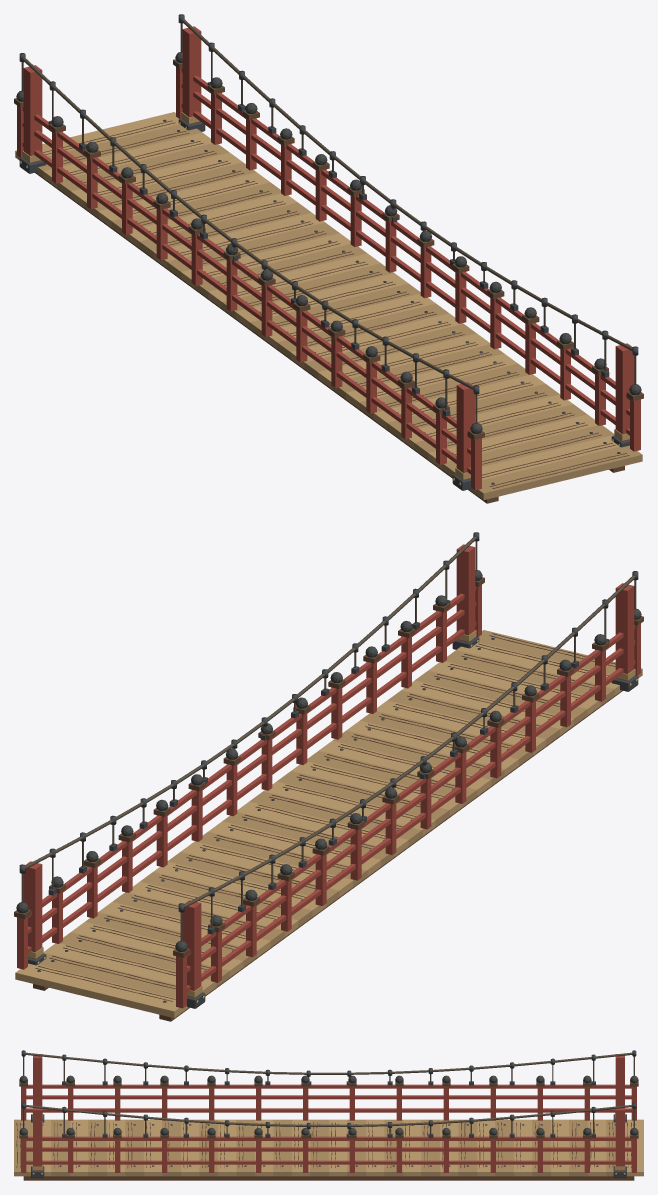
The model's file is feihua_bridge-refined-v1.glb.
3 renders of one model, top to bottom at view 1: azimuth 30°, elevation 25°; view 2: azimuth 150°, elevation 25°; view 3: azimuth 270°, elevation 25°, orthographic. The views are drawn at different scales.
Visible parts, largest first — view 1: feihua_bridge_FH_aa5145_surface, feihua_bridge_FH_b49368_surface, feihua_bridge_FH_c5a373_surface, feihua_bridge_FH_70513b_surface, feihua_bridge_FH_5f5547_surface, feihua_bridge_FH_494e51_metal, feihua_bridge_FH_474a49_surface; view 2: feihua_bridge_FH_aa5145_surface, feihua_bridge_FH_c5a373_surface, feihua_bridge_FH_b49368_surface, feihua_bridge_FH_70513b_surface, feihua_bridge_FH_5f5547_surface, feihua_bridge_FH_494e51_metal, feihua_bridge_FH_474a49_surface; view 3: feihua_bridge_FH_aa5145_surface, feihua_bridge_FH_b49368_surface, feihua_bridge_FH_c5a373_surface, feihua_bridge_FH_70513b_surface, feihua_bridge_FH_5f5547_surface, feihua_bridge_FH_494e51_metal, feihua_bridge_FH_474a49_surface.
Boxes of the visible parts, x1,y1,x2,y2 form: feihua_bridge_FH_aa5145_surface: (17,26,640,490); feihua_bridge_FH_b49368_surface: (36,124,642,500); feihua_bridge_FH_c5a373_surface: (15,112,619,489); feihua_bridge_FH_70513b_surface: (14,59,643,503); feihua_bridge_FH_5f5547_surface: (21,18,636,423); feihua_bridge_FH_494e51_metal: (19,14,638,490); feihua_bridge_FH_474a49_surface: (16,52,641,433); feihua_bridge_FH_aa5145_surface: (17,544,640,1008); feihua_bridge_FH_c5a373_surface: (15,642,621,1018); feihua_bridge_FH_b49368_surface: (38,630,642,1007); feihua_bridge_FH_70513b_surface: (14,577,643,1021); feihua_bridge_FH_5f5547_surface: (21,536,636,941); feihua_bridge_FH_494e51_metal: (19,532,638,1008); feihua_bridge_FH_474a49_surface: (16,570,641,951); feihua_bridge_FH_aa5145_surface: (21,1054,636,1172); feihua_bridge_FH_b49368_surface: (14,1119,625,1176); feihua_bridge_FH_c5a373_surface: (32,1119,643,1176); feihua_bridge_FH_70513b_surface: (16,1080,638,1180); feihua_bridge_FH_5f5547_surface: (23,1052,634,1134); feihua_bridge_FH_494e51_metal: (21,1050,636,1177); feihua_bridge_FH_474a49_surface: (19,1075,638,1135).
Size of the model in its own units: 4.9 by 3.17 by 22.45.
